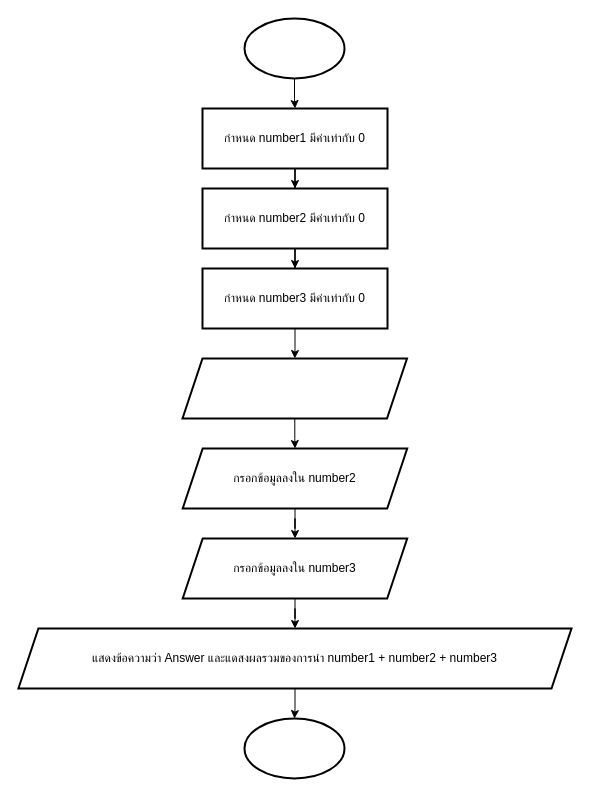
This 590x796 diagram has some shape labels left out. Each missing label, with the centre of its shape:
"end" belongs at point 294,748.
"start" belongs at point 294,48.
"กรอกข้อมูลลงใน number1" belongs at point 294,388.
